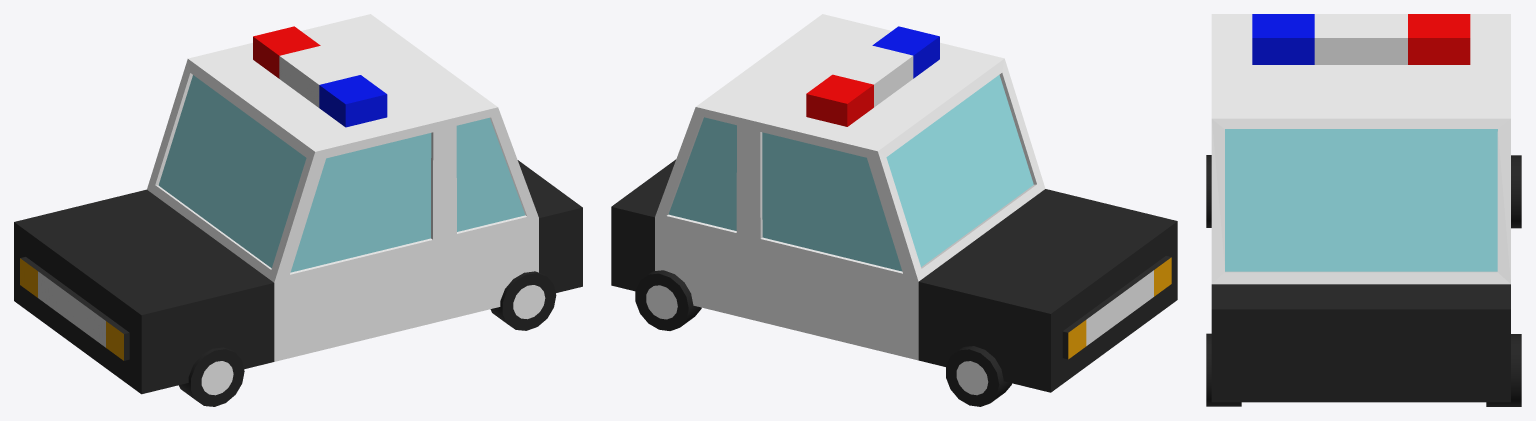
File: police.FBX
The picture shows the model from 3 angles, left to right: view 1: azimuth 30°, elevation 25°; view 2: azimuth 150°, elevation 25°; view 3: azimuth 270°, elevation 25°; orthographic projection. The views are drawn at different scales.
Parts seen in each view (by area): view 1: Box02, Cylinder26, Cylinder28; view 2: Box02, Cylinder29, Cylinder25; view 3: Box02, Cylinder29, Cylinder25, Cylinder28, Cylinder26.
Boxes of the visible parts, <box> form: Box02: <box>14,14,582,394</box>; Cylinder26: <box>179,347,244,406</box>; Cylinder28: <box>490,271,556,330</box>; Box02: <box>611,14,1177,392</box>; Cylinder29: <box>635,270,701,330</box>; Cylinder25: <box>946,346,1011,406</box>; Box02: <box>1211,14,1510,402</box>; Cylinder29: <box>1486,334,1521,406</box>; Cylinder25: <box>1511,155,1521,228</box>; Cylinder28: <box>1206,333,1241,406</box>; Cylinder26: <box>1206,155,1211,227</box>.
Size of the model in its own units: 60.78 by 32.66 by 31.64.
